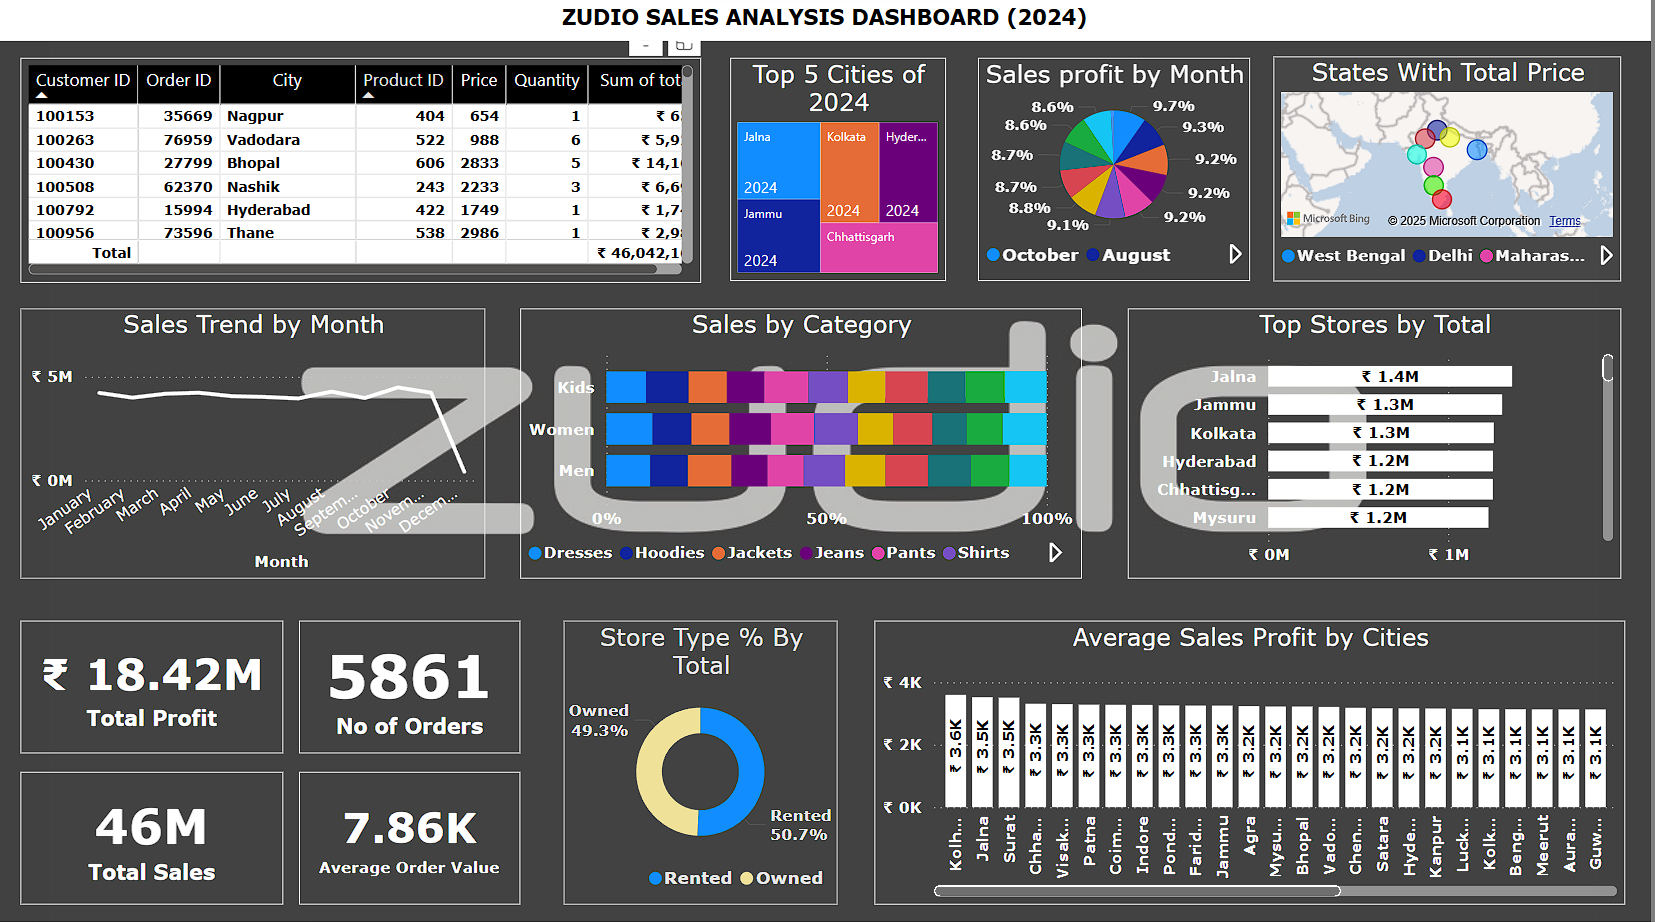

This screenshot's page, from the dashboard's own definition file:
{"tool":"powerbi","page":{"name":"Page 1","canvas":[1280,720],"ordinal":0},"visuals":[{"type":"actionButton","box":[0,0,100,40],"z":0},{"type":"lineChart","title":"Sales Trend by Month","fields":{"Y":["Sum(zudio zudio.total)"],"Category":["zudio zudio.Order Date.Variation.Date Hierarchy.Month"]},"box":[17.6,244.6,360.3,209.4],"z":1000},{"type":"clusteredBarChart","title":"Top Stores by Total","fields":{"Category":["zudio zudio.City"],"Y":["Sum(zudio zudio.total)"]},"box":[874.4,244.6,382.3,209.4],"z":2000},{"type":"hundredPercentStackedBarChart","title":"Sales by Category","fields":{"Series":["zudio zudio.Clothing Type"],"Category":["zudio zudio.Category"],"Y":["Sum(zudio zudio.total)"]},"box":[404.2,244.6,435,209.4],"z":3000},{"type":"map","title":"States With Total Price","fields":{"Category":["zudio zudio.State"],"Size":["Sum(zudio zudio.total)"],"Series":["zudio zudio.State"]},"box":[987.2,49.8,269.5,174.3],"z":4000},{"type":"treemap","title":"Top 5 Cities of  2024","fields":{"Group":["zudio zudio.City"],"Values":["Sum(zudio zudio.total)"],"Details":["zudio zudio.Year"]},"box":[566.8,51.3,167,172.8],"z":5000},{"type":"tableEx","fields":{"Values":["zudio zudio.Customer ID","zudio zudio.Order ID","zudio zudio.City","zudio zudio.Product ID","zudio zudio.Price","zudio zudio.Quantity","Sum(zudio zudio.total)"]},"box":[17.6,51.3,527.3,174.3],"z":6000},{"type":"columnChart","title":"Average Sales Profit by Cities","fields":{"Category":["zudio zudio.City"],"Y":["Avg(zudio zudio.Sales Profit)"]},"box":[678.1,486.3,581.5,219.7],"z":7000},{"type":"donutChart","title":"Store Type % By Total","fields":{"Category":["zudio zudio.Store Type"],"Y":["Sum(zudio zudio.total)"]},"box":[437.9,486.3,212.4,219.7],"z":8000},{"type":"card","fields":{"Values":["Sum(zudio zudio.Sales Profit)"]},"box":[17.6,486.3,203.6,102.5],"z":9000},{"type":"card","fields":{"Values":["Sum(zudio zudio.total)"]},"box":[17.6,603.4,203.6,102.5],"z":10000},{"type":"card","fields":{"Values":["CountNonNull(zudio zudio.Order ID)"]},"box":[232.9,486.3,171.4,102.5],"z":11000},{"type":"card","fields":{"Values":["zudio zudio.Average Order Value"]},"box":[232.9,603.4,171.4,102.5],"z":12000},{"type":"textbox","box":[0,4.4,1280.1,33.7],"z":13000},{"type":"pieChart","title":"Sales profit by Month","fields":{"Y":["Sum(zudio zudio.Sales Profit)"],"Category":["zudio zudio.Month"]},"box":[758.7,51.3,210.9,172.8],"z":14000}]}

Visuals, with their boxes in screenshot pixels (x1, y1, x2, y2), scaled from the page's 1280x720 canvas onto the 1655x922 screenshot:
actionButton: <bbox>0, 0, 129, 51</bbox>
"Sales Trend by Month" lineChart: <bbox>23, 313, 489, 581</bbox>
"Top Stores by Total" clusteredBarChart: <bbox>1131, 313, 1625, 581</bbox>
"Sales by Category" hundredPercentStackedBarChart: <bbox>523, 313, 1085, 581</bbox>
"States With Total Price" map: <bbox>1276, 64, 1625, 287</bbox>
"Top 5 Cities of  2024" treemap: <bbox>733, 66, 949, 287</bbox>
tableEx - zudio zudio.Customer ID x zudio zudio.Order ID: <bbox>23, 66, 705, 289</bbox>
"Average Sales Profit by Cities" columnChart: <bbox>877, 623, 1629, 904</bbox>
"Store Type % By Total" donutChart: <bbox>566, 623, 841, 904</bbox>
card - Sum(zudio zudio.Sales Profit): <bbox>23, 623, 286, 754</bbox>
card - Sum(zudio zudio.total): <bbox>23, 773, 286, 904</bbox>
card - CountNonNull(zudio zudio.Order ID): <bbox>301, 623, 523, 754</bbox>
card - zudio zudio.Average Order Value: <bbox>301, 773, 523, 904</bbox>
textbox: <bbox>0, 6, 1654, 49</bbox>
"Sales profit by Month" pieChart: <bbox>981, 66, 1254, 287</bbox>
